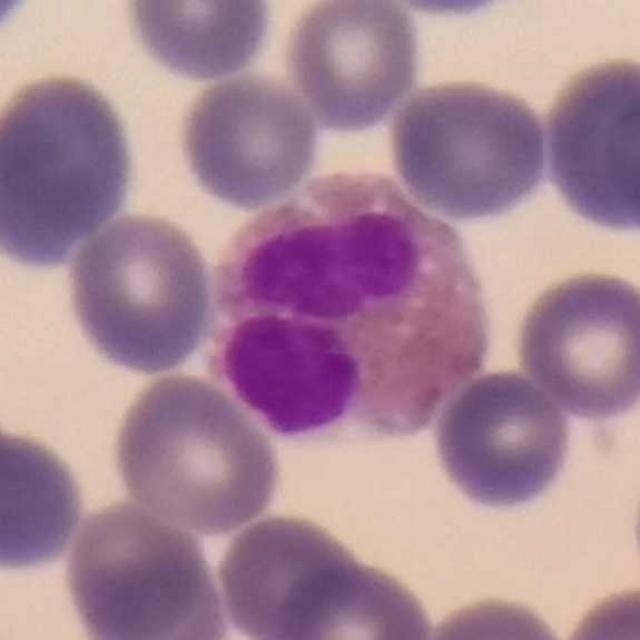Eosinophil: (188, 168, 489, 454)
RBC: (106, 370, 284, 536), (0, 66, 141, 272), (62, 207, 218, 378), (385, 73, 554, 225), (60, 498, 230, 640), (427, 365, 578, 518), (172, 72, 323, 212), (510, 265, 640, 421), (213, 508, 364, 640), (537, 51, 640, 240), (279, 0, 426, 132), (272, 552, 438, 640), (0, 420, 89, 578), (118, 0, 278, 85), (414, 590, 575, 640), (557, 581, 640, 640), (369, 0, 538, 23)
